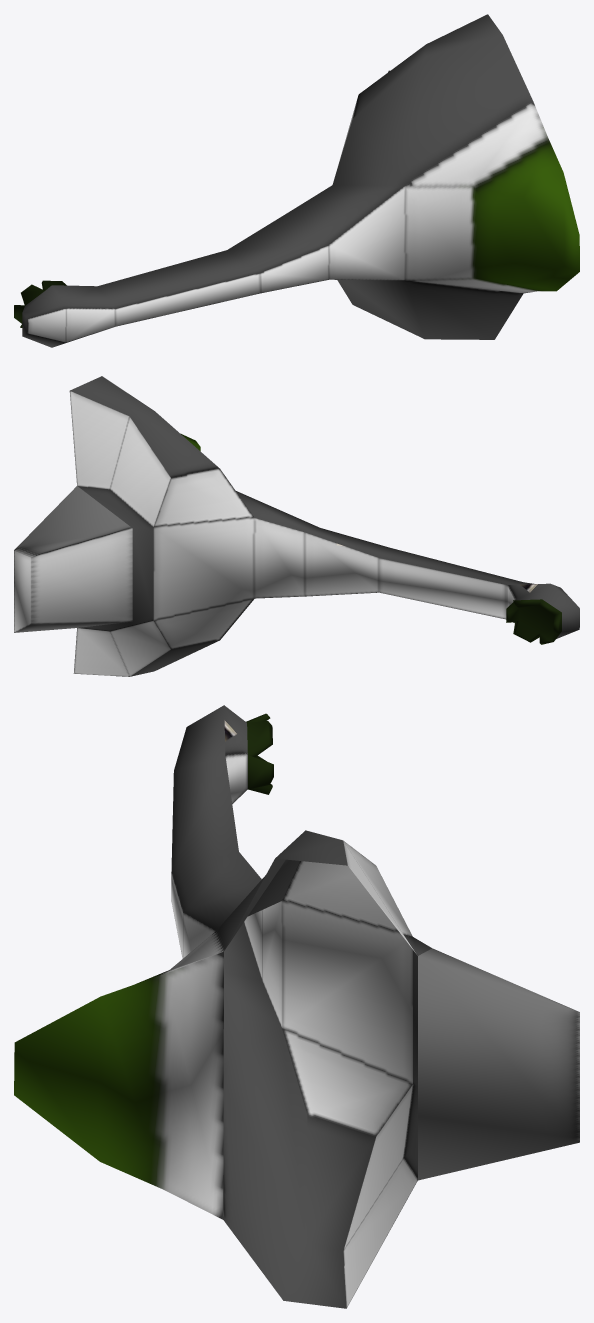
File: BrazoBio.fbx
3 views of the same model, one above another, from view 1: azimuth 30°, elevation 25°; view 2: azimuth 150°, elevation 25°; view 3: azimuth 270°, elevation 25° (orthographic). The views are drawn at different scales.
Parts seen in each view (by area): view 1: BrazoAnillo_001; view 2: BrazoAnillo_001; view 3: BrazoAnillo_001.
Boxes of the visible parts, box(x1,y1,x2,y2) form: BrazoAnillo_001: box(14, 14, 579, 347); BrazoAnillo_001: box(14, 376, 579, 676); BrazoAnillo_001: box(14, 705, 579, 1308).
Size of the model in its own units: 1.1 by 0.6302 by 0.7248.
1 material, 1 textured.
